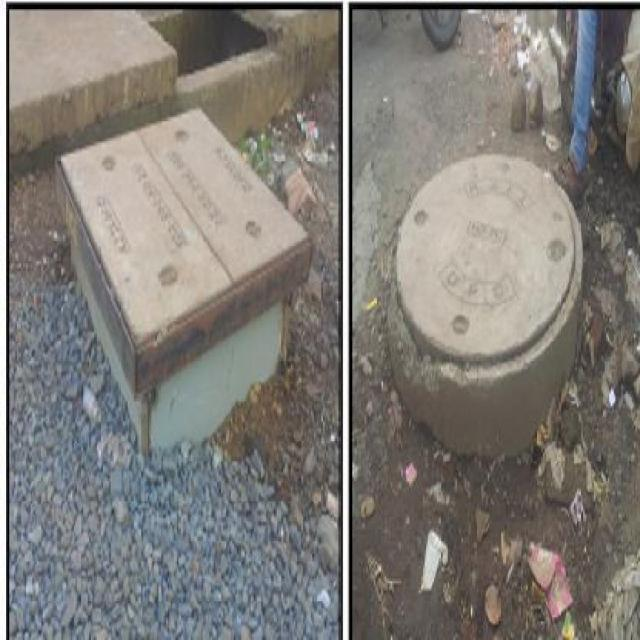Manhole: (48, 101, 324, 362), (388, 146, 584, 372)
